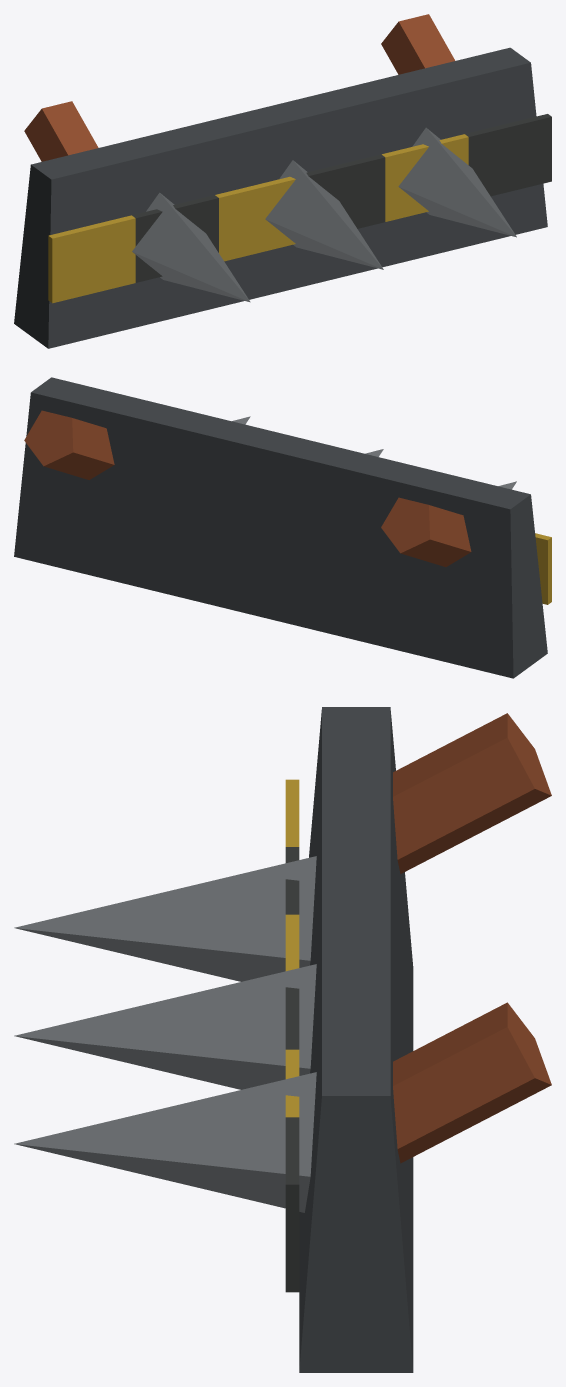
Rendered from upg_ram_t0.glb.
3 renders of one model, top to bottom at view 1: azimuth 30°, elevation 25°; view 2: azimuth 150°, elevation 25°; view 3: azimuth 270°, elevation 25°, orthographic. The views are drawn at different scales.
Visible parts, largest first — view 1: ram; view 2: ram; view 3: ram.
Boxes of the visible parts, x1,y1,x2,y2 form: ram: (14, 14, 551, 348); ram: (14, 377, 551, 678); ram: (14, 707, 551, 1372).
Size of the model in its own units: 0.84 by 0.2905 by 0.4715.
